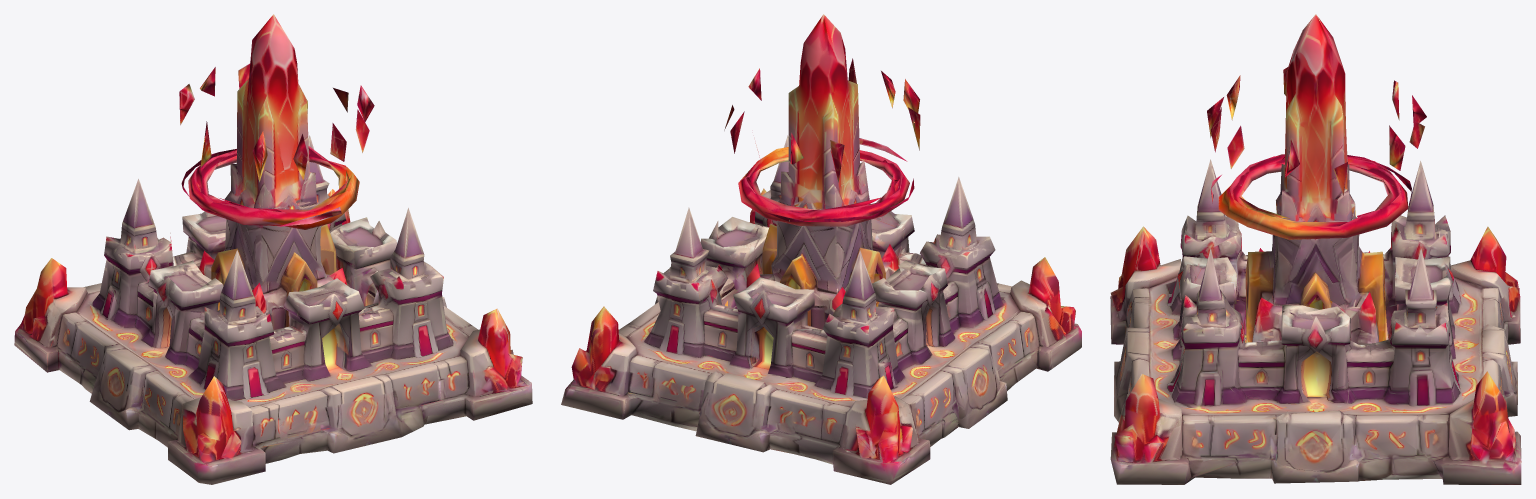
The model's file is SpiritNexusRed.fbx.
3 renders of one model, left to right at view 1: azimuth 30°, elevation 25°; view 2: azimuth 150°, elevation 25°; view 3: azimuth 270°, elevation 25°, orthographic. The views are drawn at different scales.
Visible parts, largest first — view 1: Mesh_0; view 2: Mesh_0; view 3: Mesh_0.
Part boxes in pixels (bbox=[...]): Mesh_0: bbox=[14, 14, 532, 484]; Mesh_0: bbox=[561, 14, 1081, 484]; Mesh_0: bbox=[1110, 14, 1521, 484].
Size of the model in its own units: 186 by 192 by 186.
Materials: 1 (1 with a texture image).
